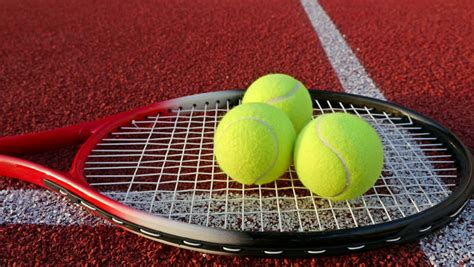tennis_ball: (293, 111, 384, 202), (211, 101, 298, 186), (241, 72, 313, 145)
